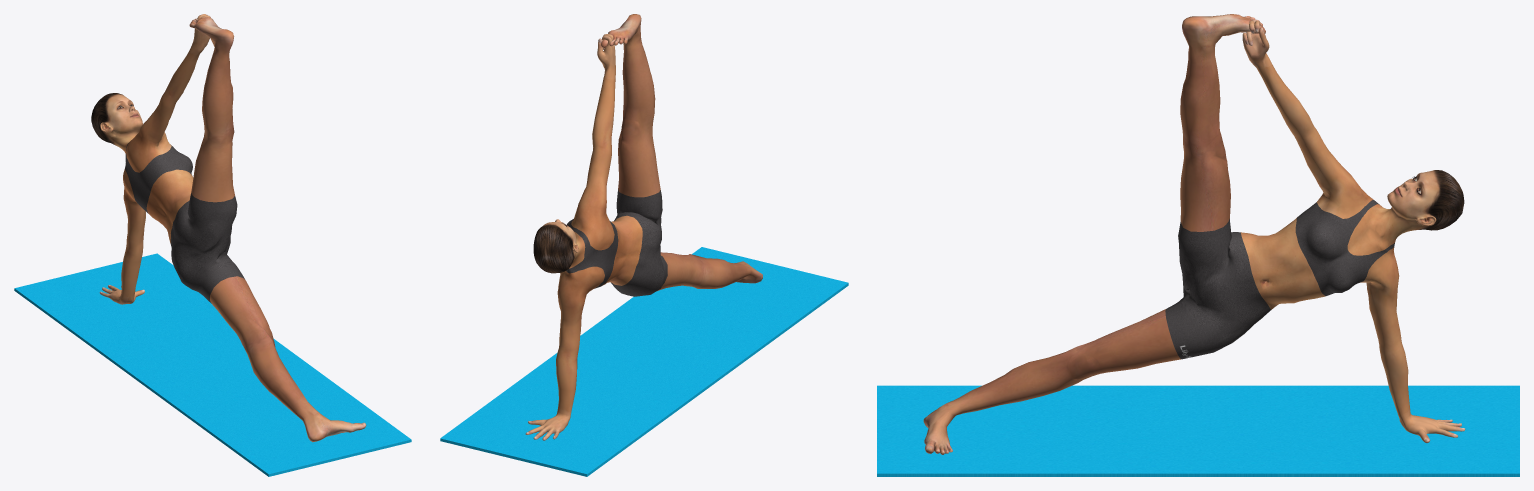
The model's file is vasisthasana.glb.
3 renders of one model, left to right at view 1: azimuth 30°, elevation 25°; view 2: azimuth 150°, elevation 25°; view 3: azimuth 270°, elevation 25°, orthographic. The views are drawn at different scales.
Visible parts, largest first — view 1: Mat-one-piece_jpg-material, Lily_Texture01_06_2016_jpg-material; view 2: Mat-one-piece_jpg-material, Lily_Texture01_06_2016_jpg-material; view 3: Mat-one-piece_jpg-material, Lily_Texture01_06_2016_jpg-material.
Part boxes in pixels (box(x1,y1,x2,y2)): Mat-one-piece_jpg-material: box(14, 253, 411, 476); Lily_Texture01_06_2016_jpg-material: box(91, 14, 366, 442); Mat-one-piece_jpg-material: box(440, 247, 848, 476); Lily_Texture01_06_2016_jpg-material: box(525, 14, 762, 440); Mat-one-piece_jpg-material: box(877, 385, 1519, 476); Lily_Texture01_06_2016_jpg-material: box(923, 14, 1465, 454).
Bounding box in the file's own units: 2 × 4.46 × 6.17.
Materials: 3 (2 with a texture image).
